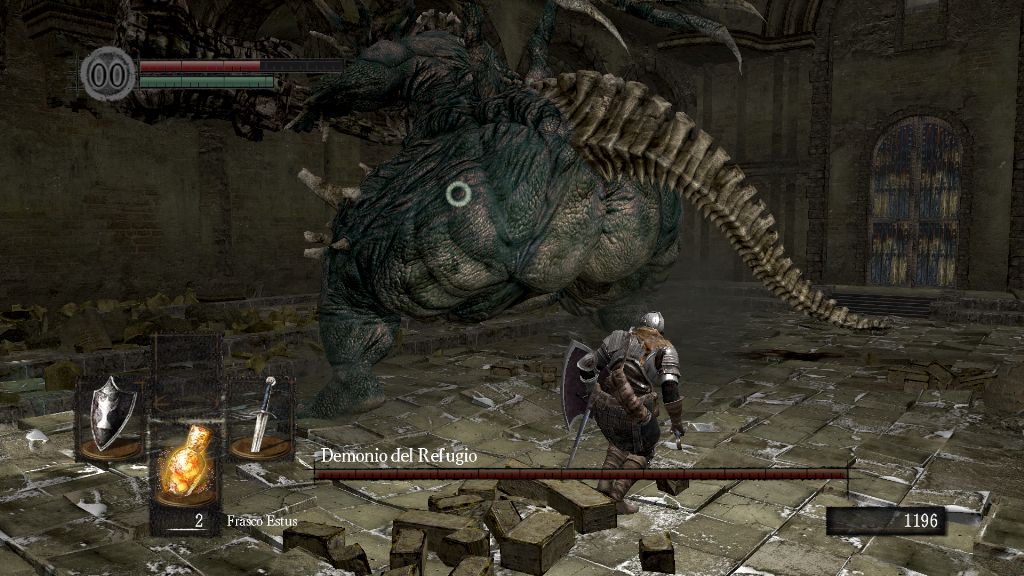asylumDemon: (109, 5, 907, 419)
bossHP: (314, 469, 847, 479)
health: (138, 58, 343, 71)
humanity: (80, 45, 136, 102)
player: (560, 310, 689, 516)
souls: (825, 506, 945, 536)
stamina: (138, 74, 274, 88)
